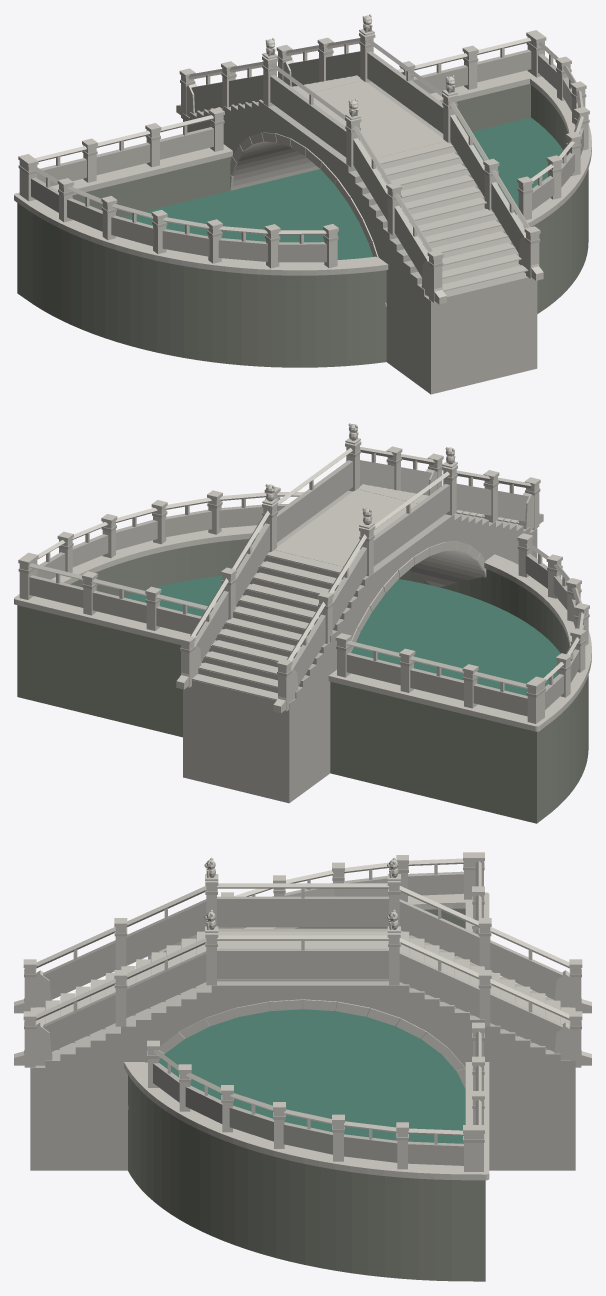
Rendered from chongming-pan-pool-bridge-lod.glb.
3 views of the same model, one above another, from view 1: azimuth 30°, elevation 25°; view 2: azimuth 150°, elevation 25°; view 3: azimuth 270°, elevation 25° (orthographic). The views are drawn at different scales.
Bounding box in the file's own units: 12.35 × 5.31 × 10.7.
